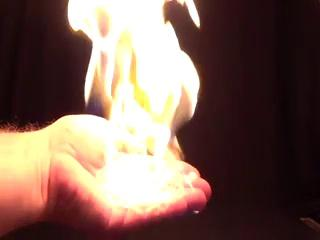Fire: (73, 1, 210, 203)
